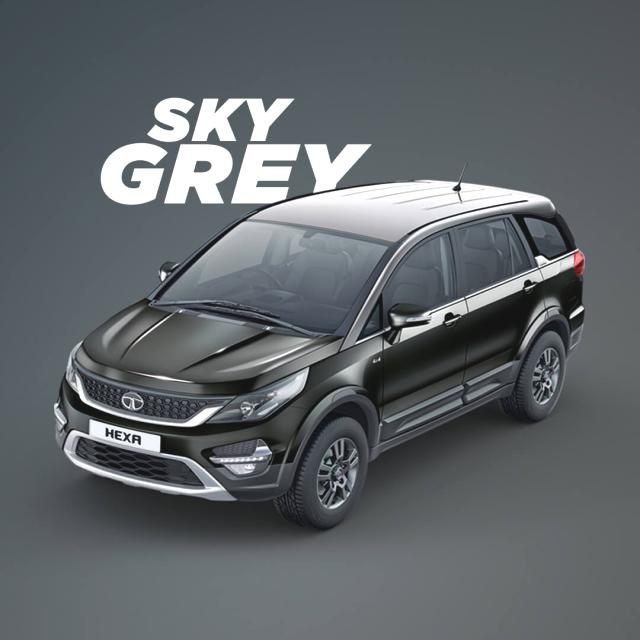SUV: (52, 185, 583, 534)
